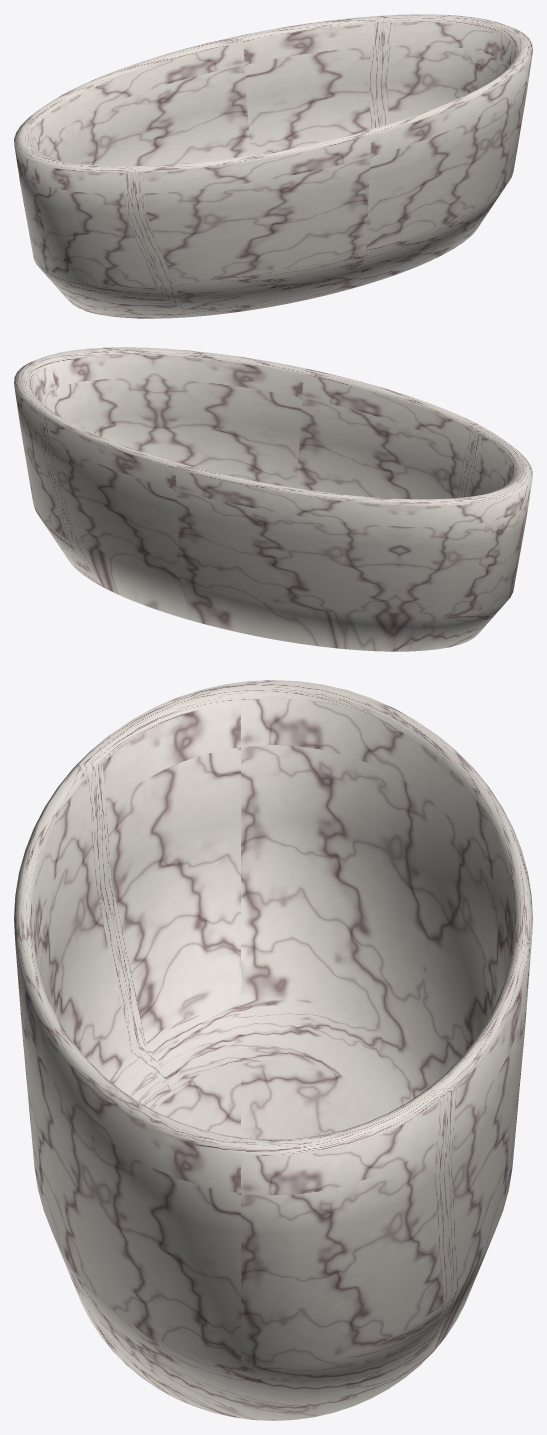
File: curated-bath-marble.glb
The picture shows the model from 3 angles, top to bottom: view 1: azimuth 30°, elevation 25°; view 2: azimuth 150°, elevation 25°; view 3: azimuth 270°, elevation 25°; orthographic projection. The views are drawn at different scales.
Parts seen in each view (by area): view 1: SubPart.001; view 2: SubPart.001; view 3: SubPart.001.
Part boxes in pixels (x1=…): SubPart.001: x1=14, y1=14, x2=532, y2=318; SubPart.001: x1=14, y1=347, x2=532, y2=651; SubPart.001: x1=14, y1=680, x2=532, y2=1420.
Size of the model in its own units: 1.7 by 0.535 by 0.784.
Materials: 2 (2 with a texture image).
